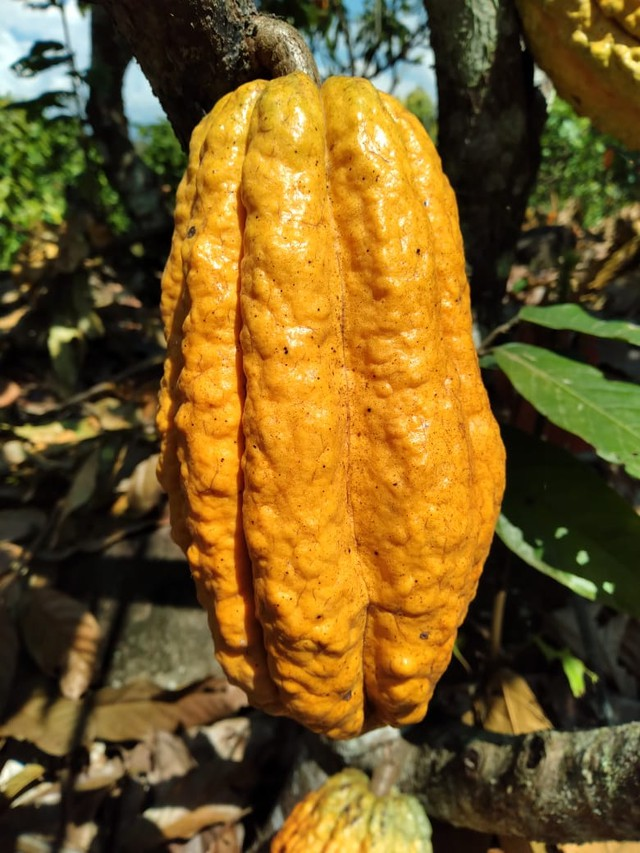Health: (136, 65, 516, 750)
